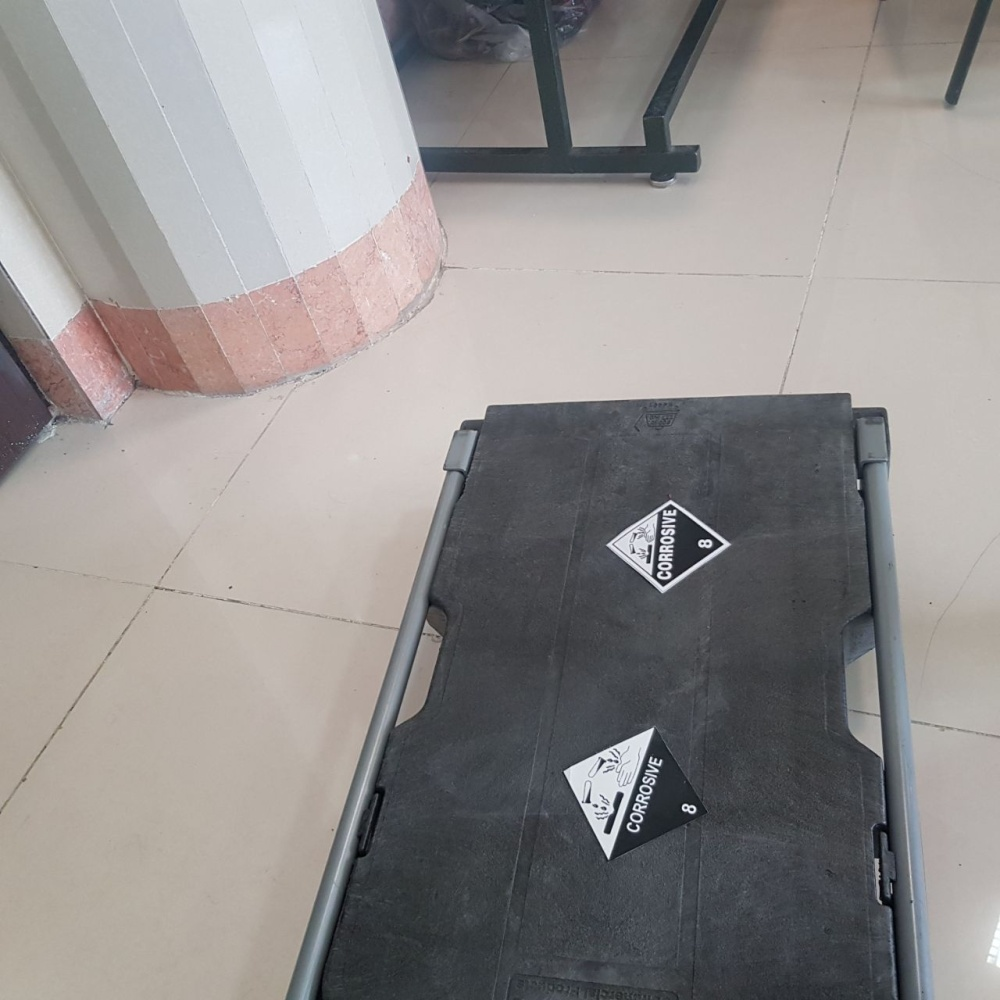Corrosive: (562, 726, 708, 861), (605, 499, 731, 594)
